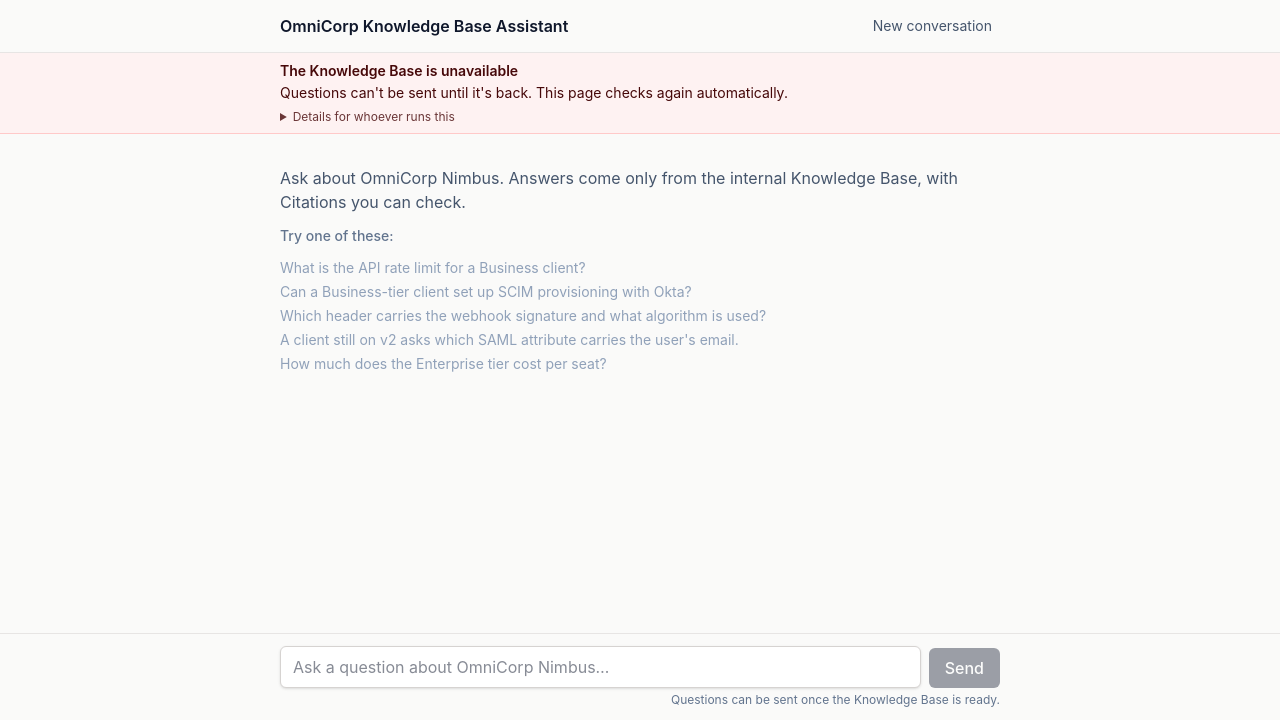
the copy for each state › database down
The width and height of the screenshot is (1280, 720).
Expected: the message "The Knowledge Base is unavailable" shows "Questions can't be sent until it's back. This page checks again automatically.", [280,84,788,101]
Click the heading "Details for whoever runs this".
click(374, 116)  # box [293,109,455,124]
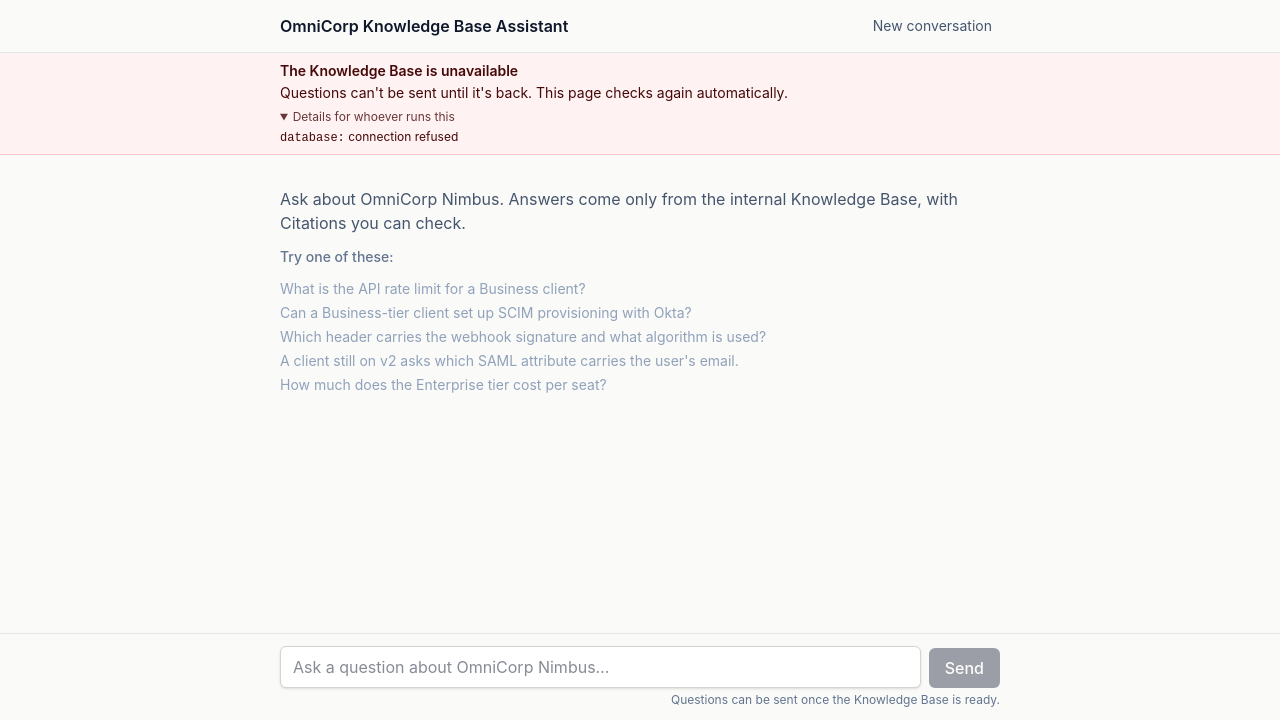
Now the list "database: connection refused" is shown, box [280,129,458,145]
